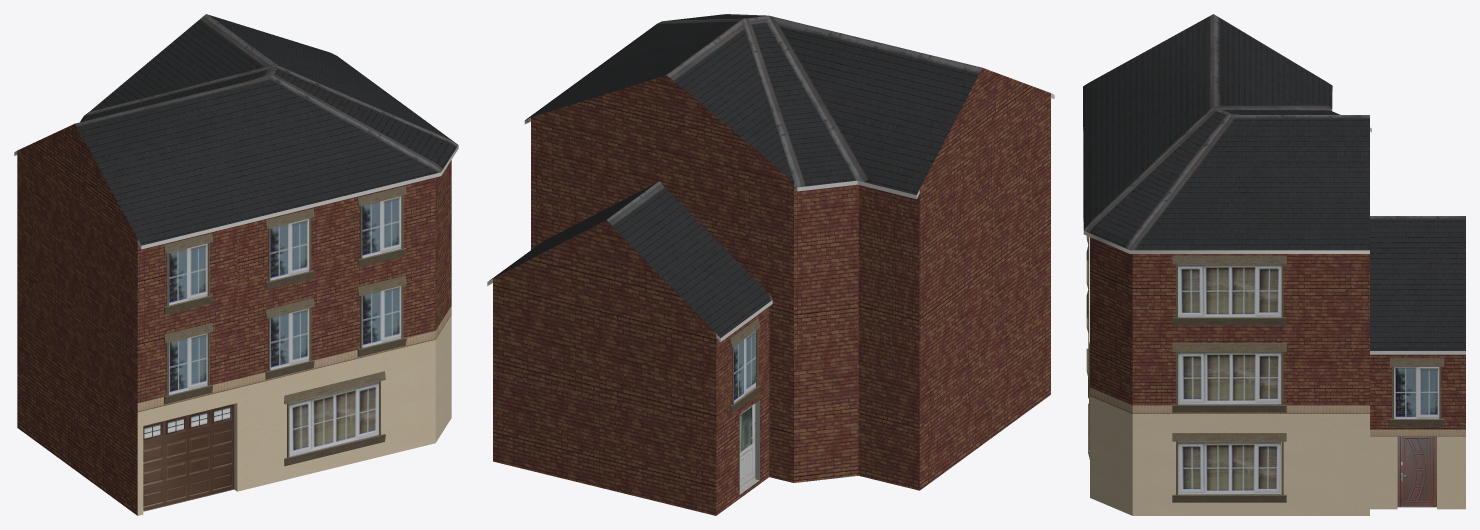
File: terracedcorner3story1.FBX
3 renders of one model, left to right at view 1: azimuth 30°, elevation 25°; view 2: azimuth 150°, elevation 25°; view 3: azimuth 270°, elevation 25°, orthographic. The views are drawn at different scales.
Visible parts, largest first — view 1: Box004; view 2: Box004; view 3: Box004.
Boxes of the visible parts, x1,y1,x2,y2 form: Box004: (14, 14, 458, 515); Box004: (487, 14, 1054, 515); Box004: (1083, 14, 1465, 515).
Bounding box in the file's own units: 1297 × 1258 × 1281.
